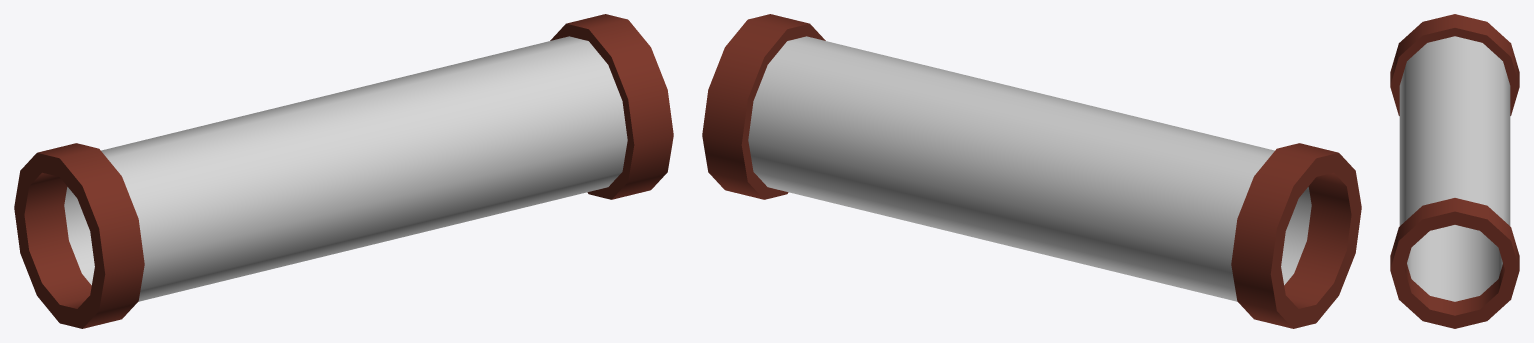
Rendered from Straight_Pipe.fbx.
The picture shows the model from 3 angles, left to right: view 1: azimuth 30°, elevation 25°; view 2: azimuth 150°, elevation 25°; view 3: azimuth 270°, elevation 25°; orthographic projection. The views are drawn at different scales.
Visible parts, largest first — view 1: Cylinder.045; view 2: Cylinder.045; view 3: Cylinder.045.
Part boxes in pixels (bbox=[...]): Cylinder.045: bbox=[14, 14, 673, 328]; Cylinder.045: bbox=[702, 14, 1361, 328]; Cylinder.045: bbox=[1390, 14, 1519, 328].
Size of the model in its own units: 182 by 50.44 by 50.44.
